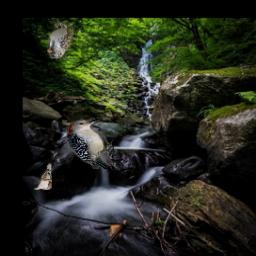Cuckoo: (35, 164, 53, 191)
Sparrow: (47, 21, 73, 58)
Woodpecker: (67, 118, 115, 170)
